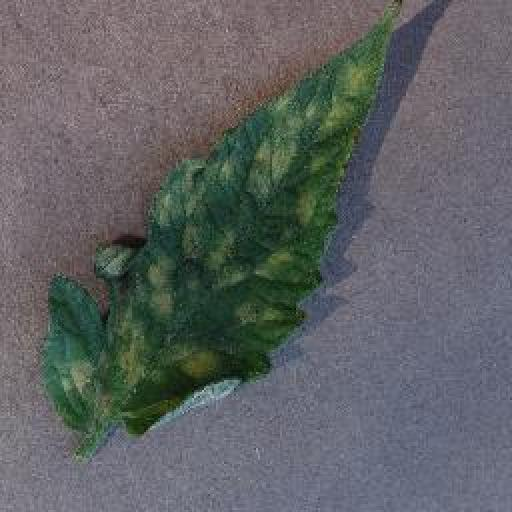disease_tomato: (38, 4, 401, 435)
